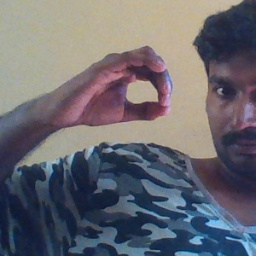O: (48, 43, 174, 133)
